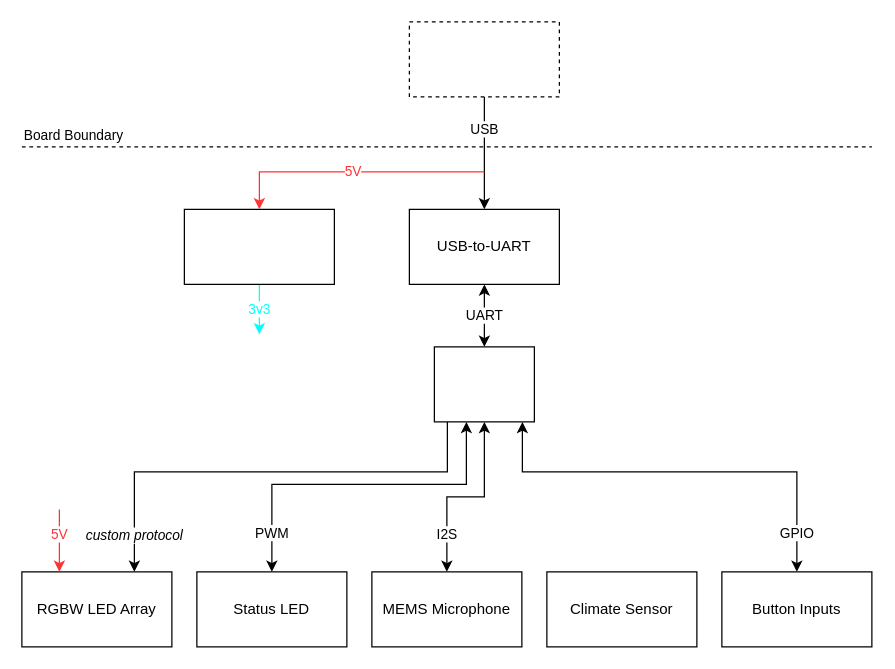
Image size: 895x669. Some labels were removed from this diagram. Each missing label, with the centre of its shape:
"ESP32C6" goes at pixel 483 384.
"Host PC or USB Power Supply" goes at pixel 483 59.
"LDO Regulator" goes at pixel 258 246.
